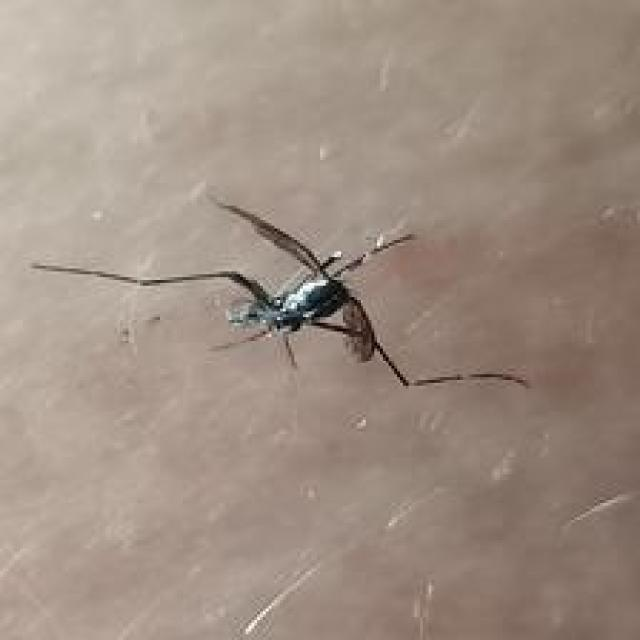Aedes albopictus: (30, 196, 530, 390)
